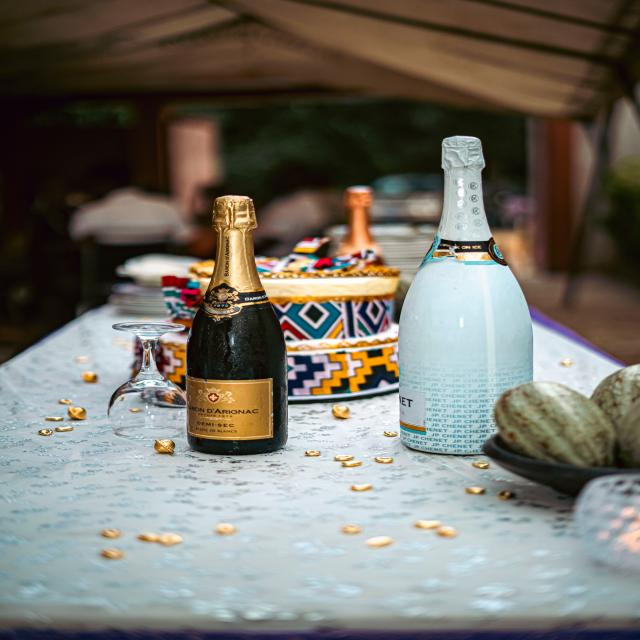Bottle: (399, 137, 532, 454), (187, 196, 287, 454), (338, 186, 379, 256)
